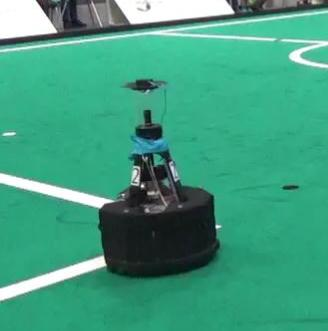robot: (92, 77, 229, 277)
